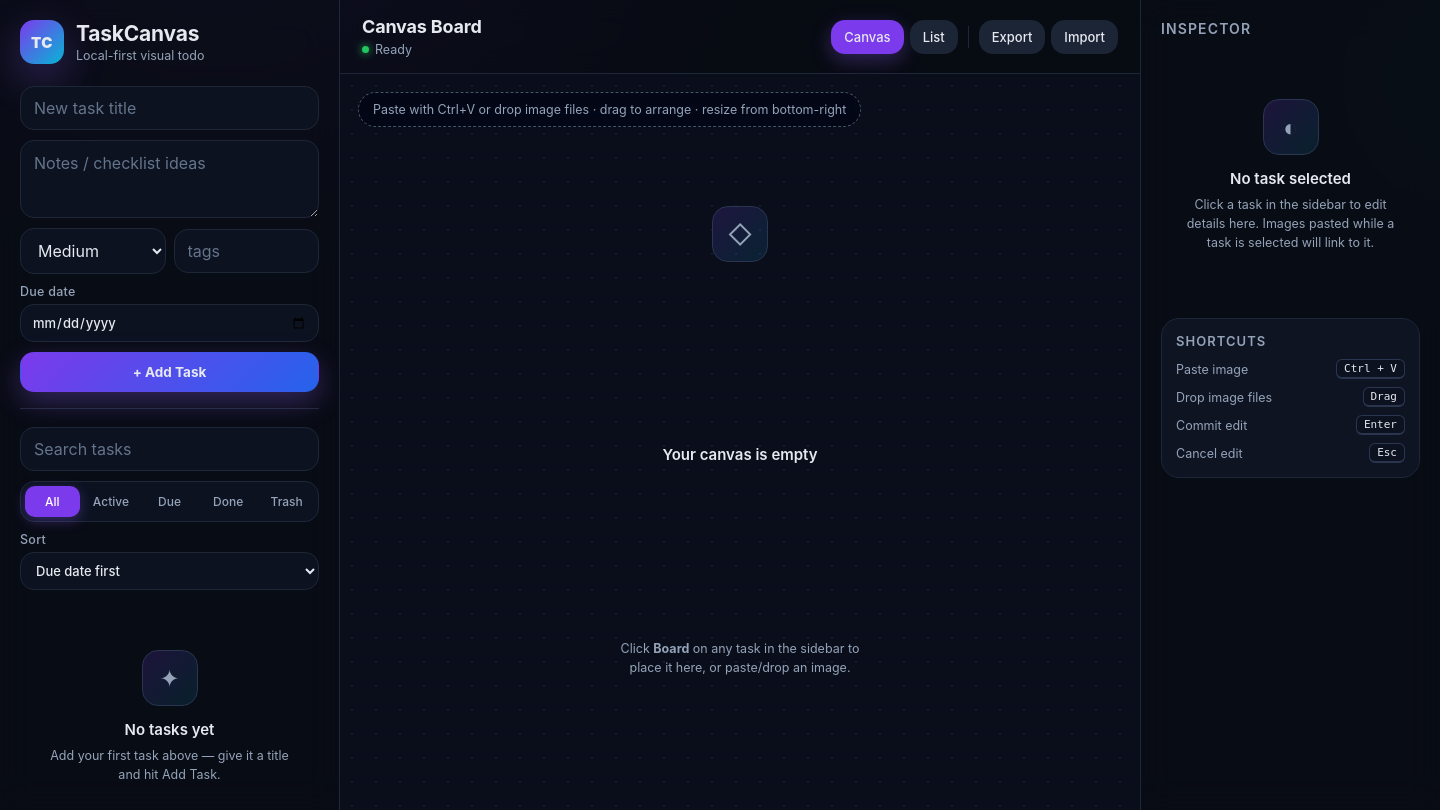
Test: TaskCanvas frontend flows › creates a task through the composer and persists it in the active list
This screenshot has width=1440, height=810.
In the field with placeholder "New task title": (170, 108) top-left (20, 86), bottom-right (319, 130), type "Write frontend tests"
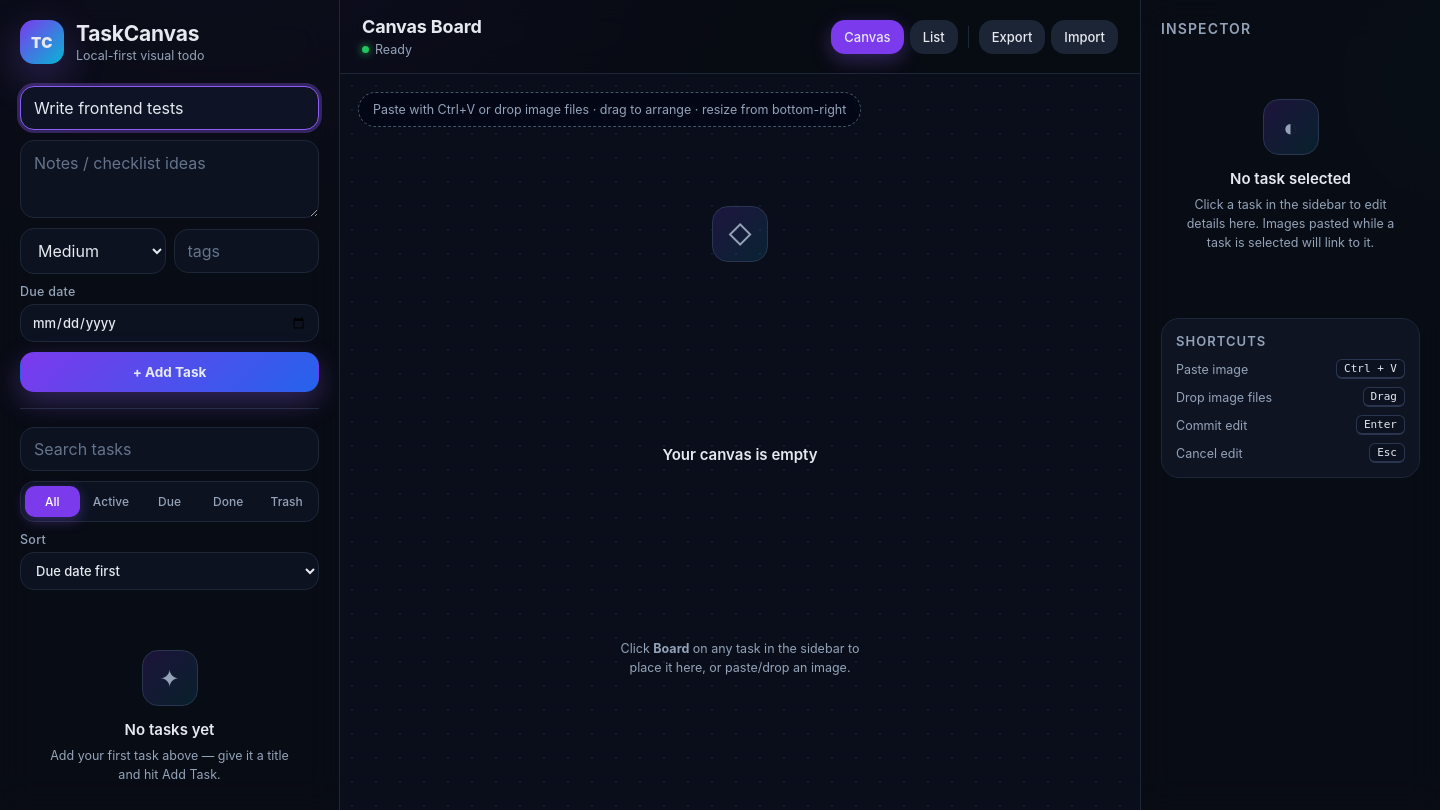
In the text box with placeholder "Notes / checklist ideas": (170, 179) top-left (20, 140), bottom-right (319, 218), type "Safety net before refactor"
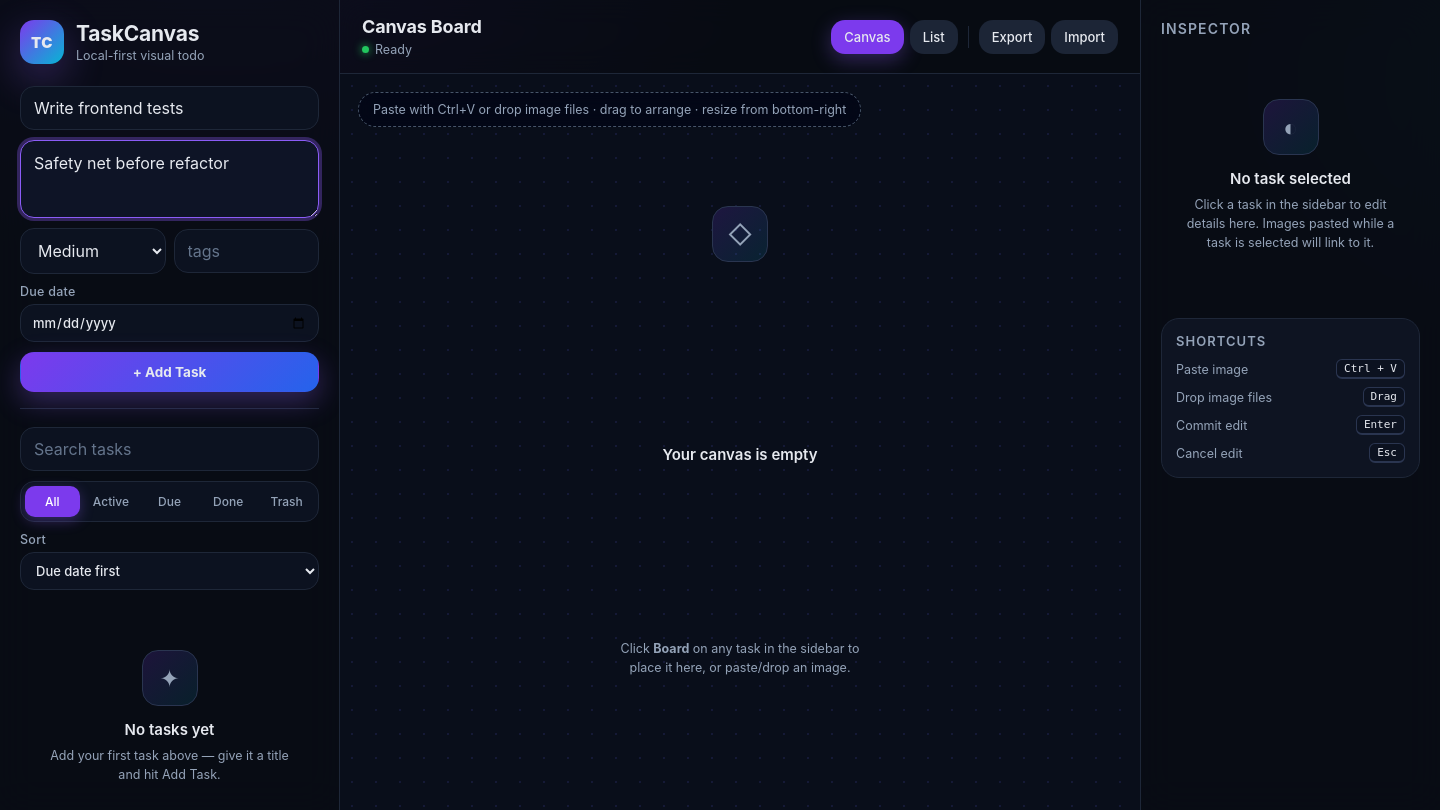
Click the button "+ Add Task": (170, 372) top-left (20, 352), bottom-right (319, 392)
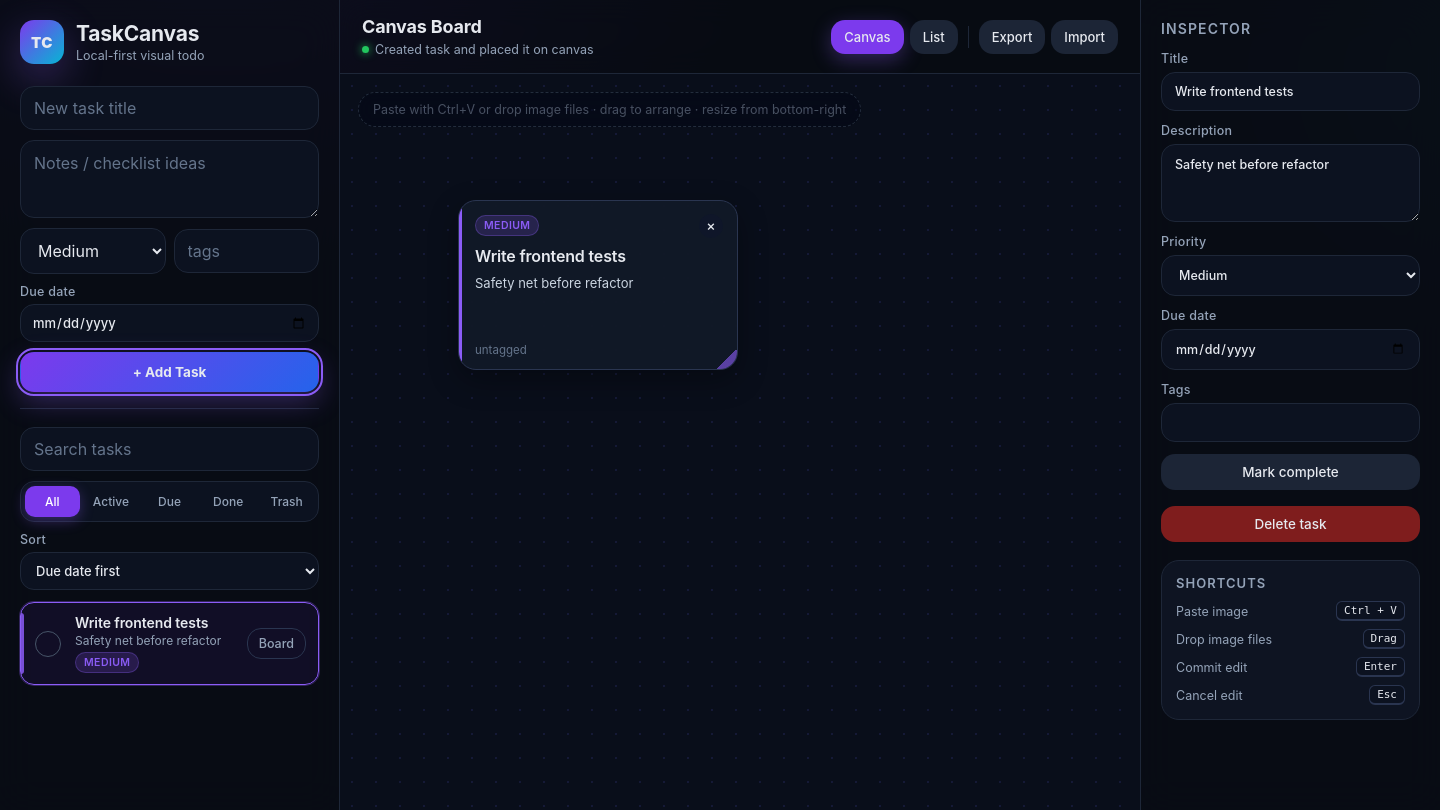
Result: the text "Write frontend tests" is shown at top-left (75, 614), bottom-right (208, 631)
Result: the 2nd text "Safety net before refactor" is shown at top-left (75, 633), bottom-right (237, 648)
Result: the text "Created task and placed it on canvas" is shown at top-left (362, 42), bottom-right (594, 57)
